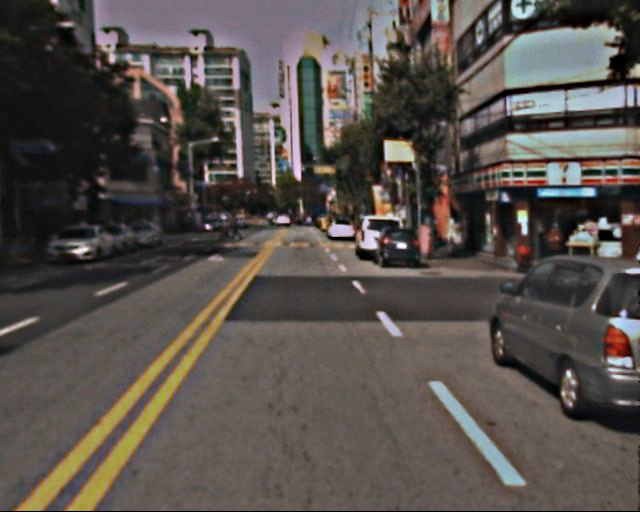person: (542, 215, 569, 278), (230, 211, 243, 242)
